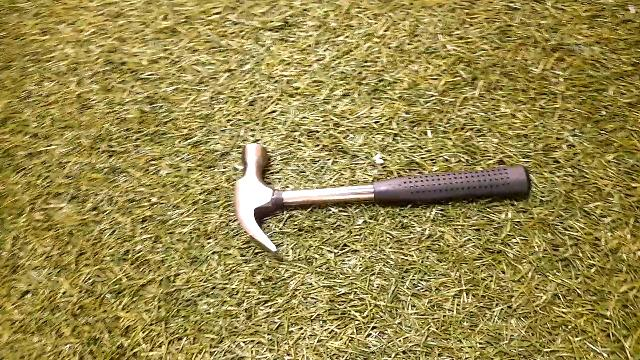hammer: (224, 131, 538, 260)
